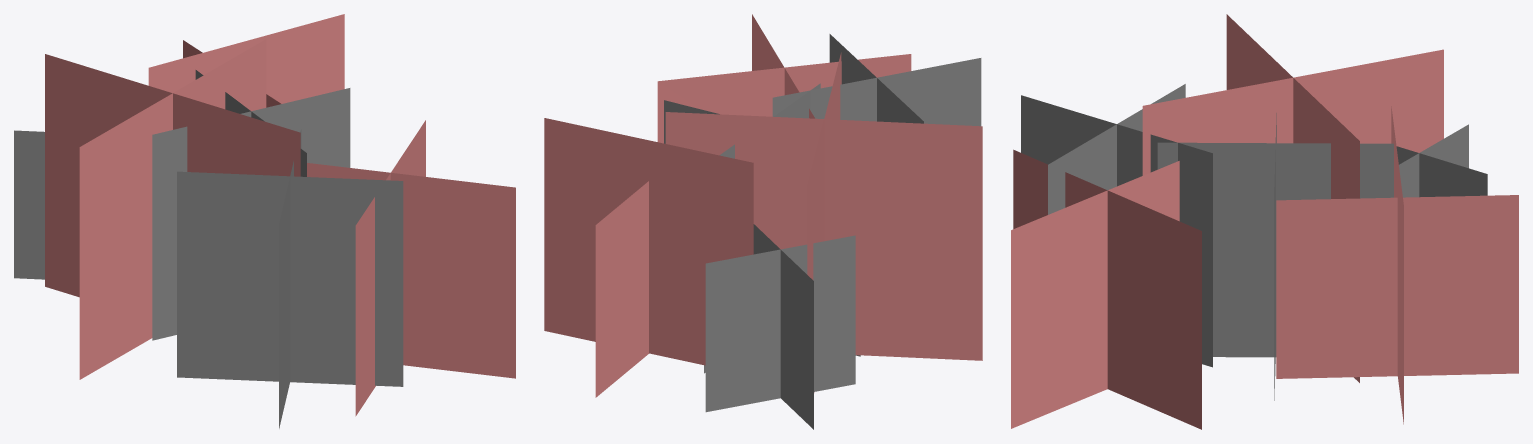
File: SM_grass_flower_patch6.fbx
3 views of the same model, side by side, from view 1: azimuth 30°, elevation 25°; view 2: azimuth 150°, elevation 25°; view 3: azimuth 270°, elevation 25° (orthographic). The views are drawn at different scales.
Parts seen in each view (by area): view 1: SM_grass_flower_patch6; view 2: SM_grass_flower_patch6; view 3: SM_grass_flower_patch6.
Boxes of the visible parts, box(x1,y1,x2,y2) form: SM_grass_flower_patch6: box(14, 14, 515, 428); SM_grass_flower_patch6: box(544, 14, 982, 429); SM_grass_flower_patch6: box(1011, 14, 1518, 429).
Bounding box in the file's own units: 31.22 × 20.15 × 37.69.
